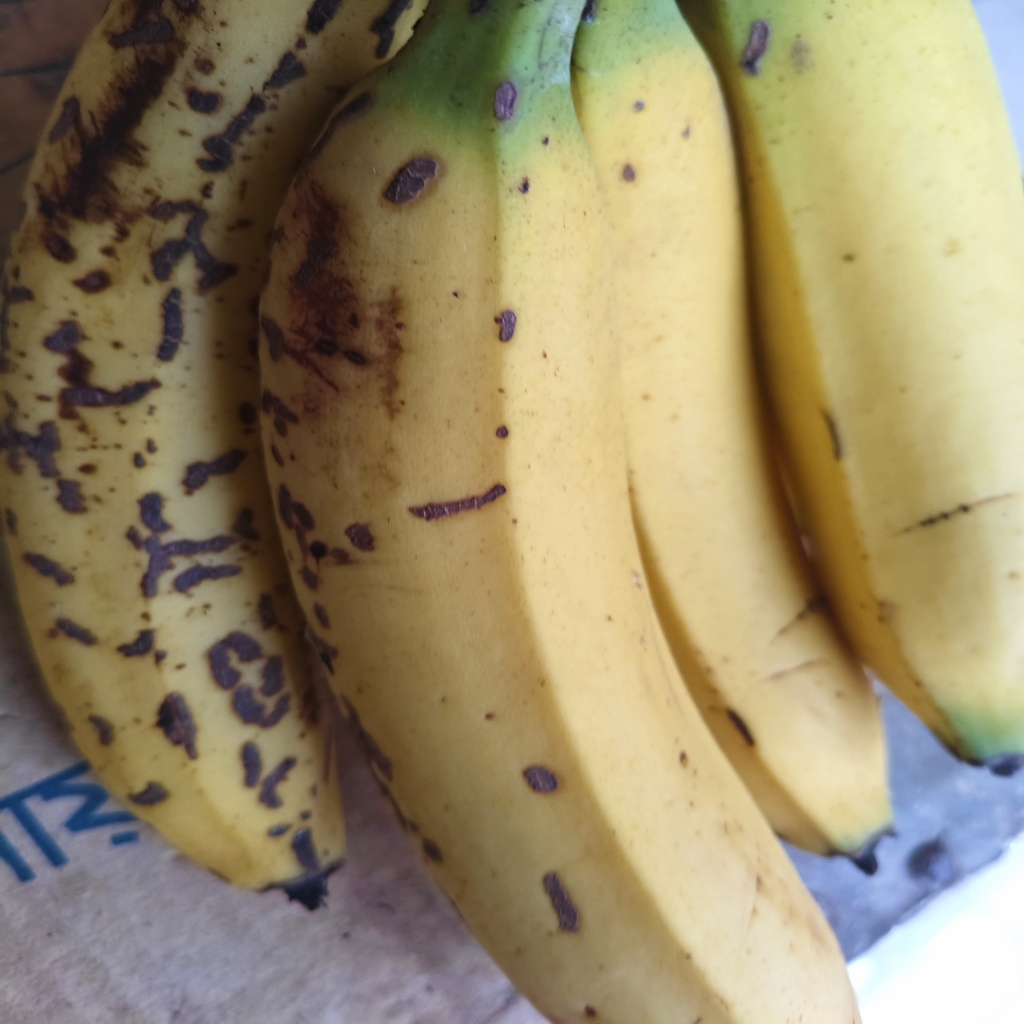unhealthy: (257, 68, 868, 1020), (8, 5, 429, 896)
